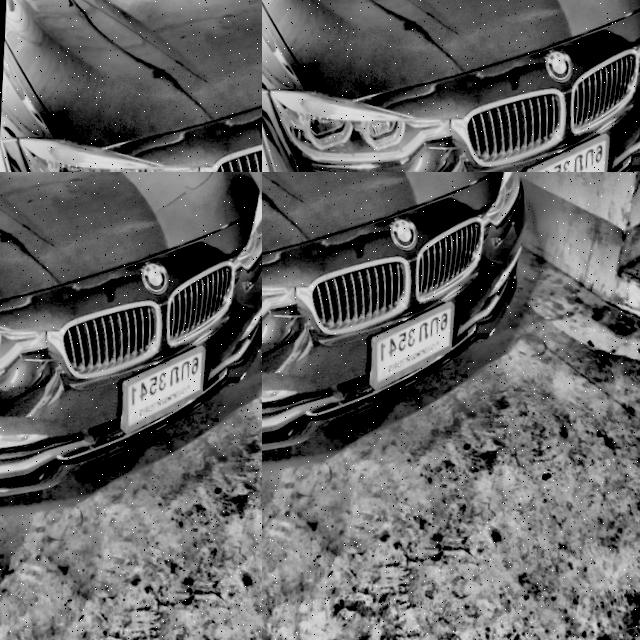license-plate: (85, 378, 221, 500), (364, 294, 455, 398)
